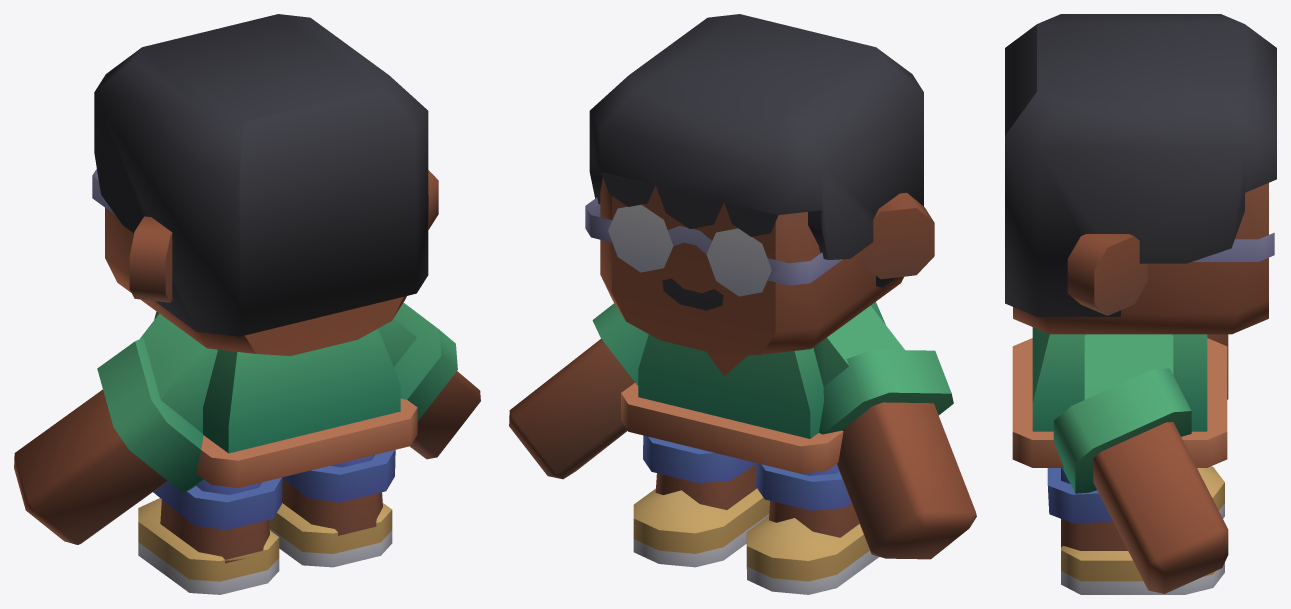
The model's file is hand_0_w0.fbx.
3 renders of one model, left to right at view 1: azimuth 30°, elevation 25°; view 2: azimuth 150°, elevation 25°; view 3: azimuth 270°, elevation 25°, orthographic.
Visible parts, largest first — view 1: body-mesh; view 2: body-mesh; view 3: body-mesh.
Part boxes in pixels (x1,y1,x2,y2): body-mesh: (14, 14, 480, 594); body-mesh: (509, 14, 976, 594); body-mesh: (1005, 14, 1276, 594).
Size of the model in its own units: 0.9891 by 1 by 0.5065.
